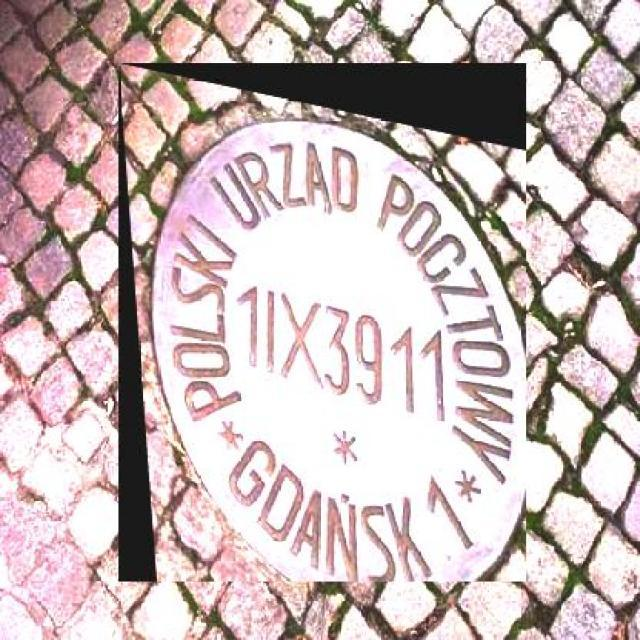Manhole: (120, 63, 528, 582)
